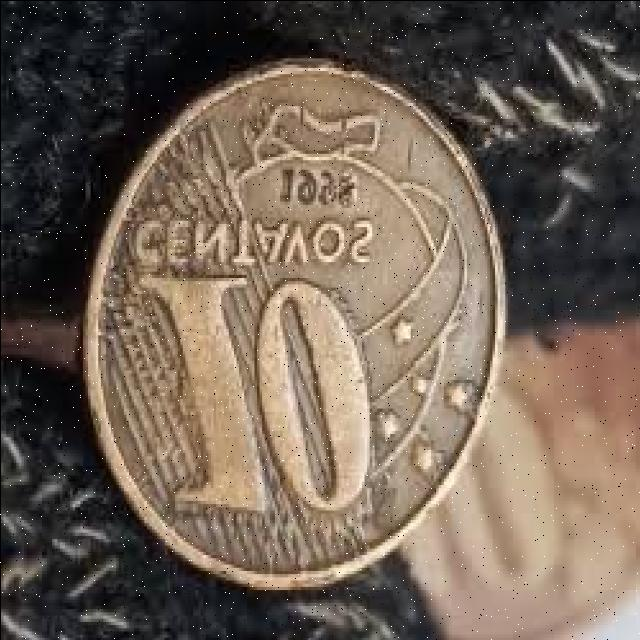10 cent: (100, 64, 516, 582)
